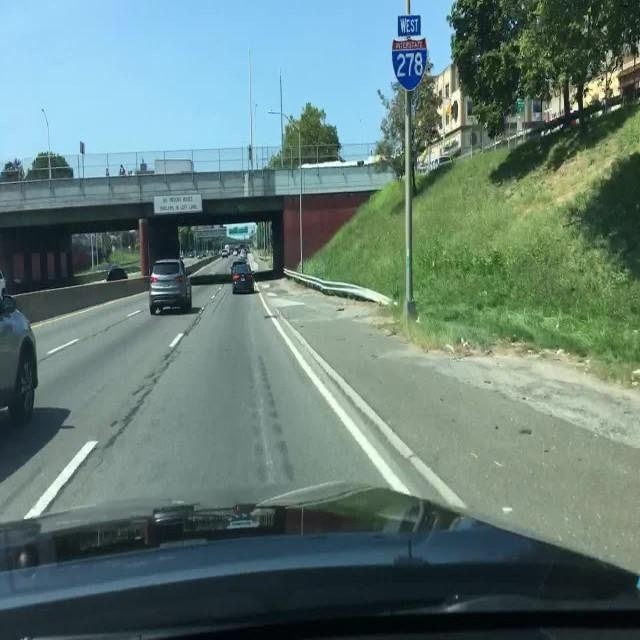normal: (147, 254, 207, 319), (228, 253, 283, 296)
